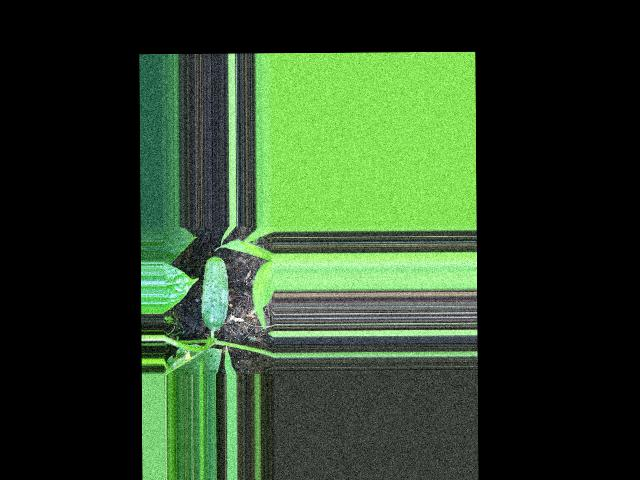cucumber: (201, 255, 229, 329)
